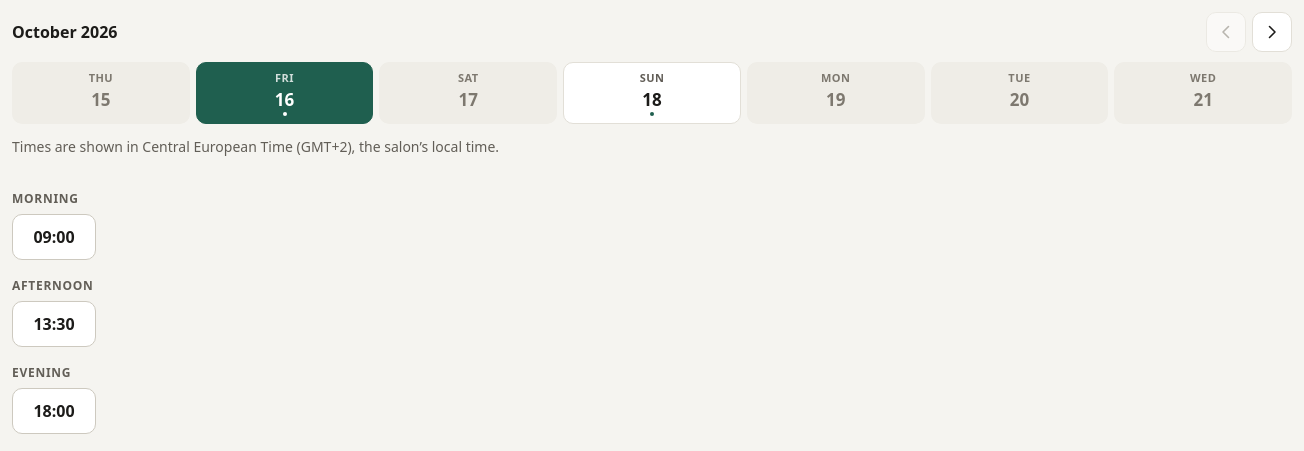
SlotPicker › shows another day when it is chosen
expect the button "09:00" is shown: met, box [12, 214, 96, 260]
Click the button "Sun 18": (652, 93) [563, 62, 741, 124]
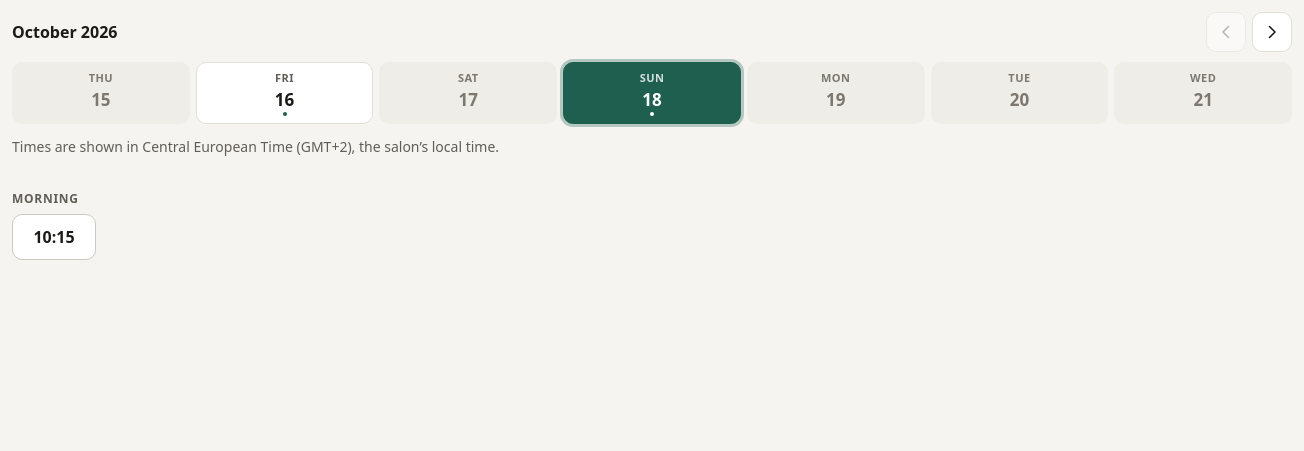
expect the button "10:15" is shown: met, box [12, 214, 96, 260]
expect the button "09:00" is gone: met
